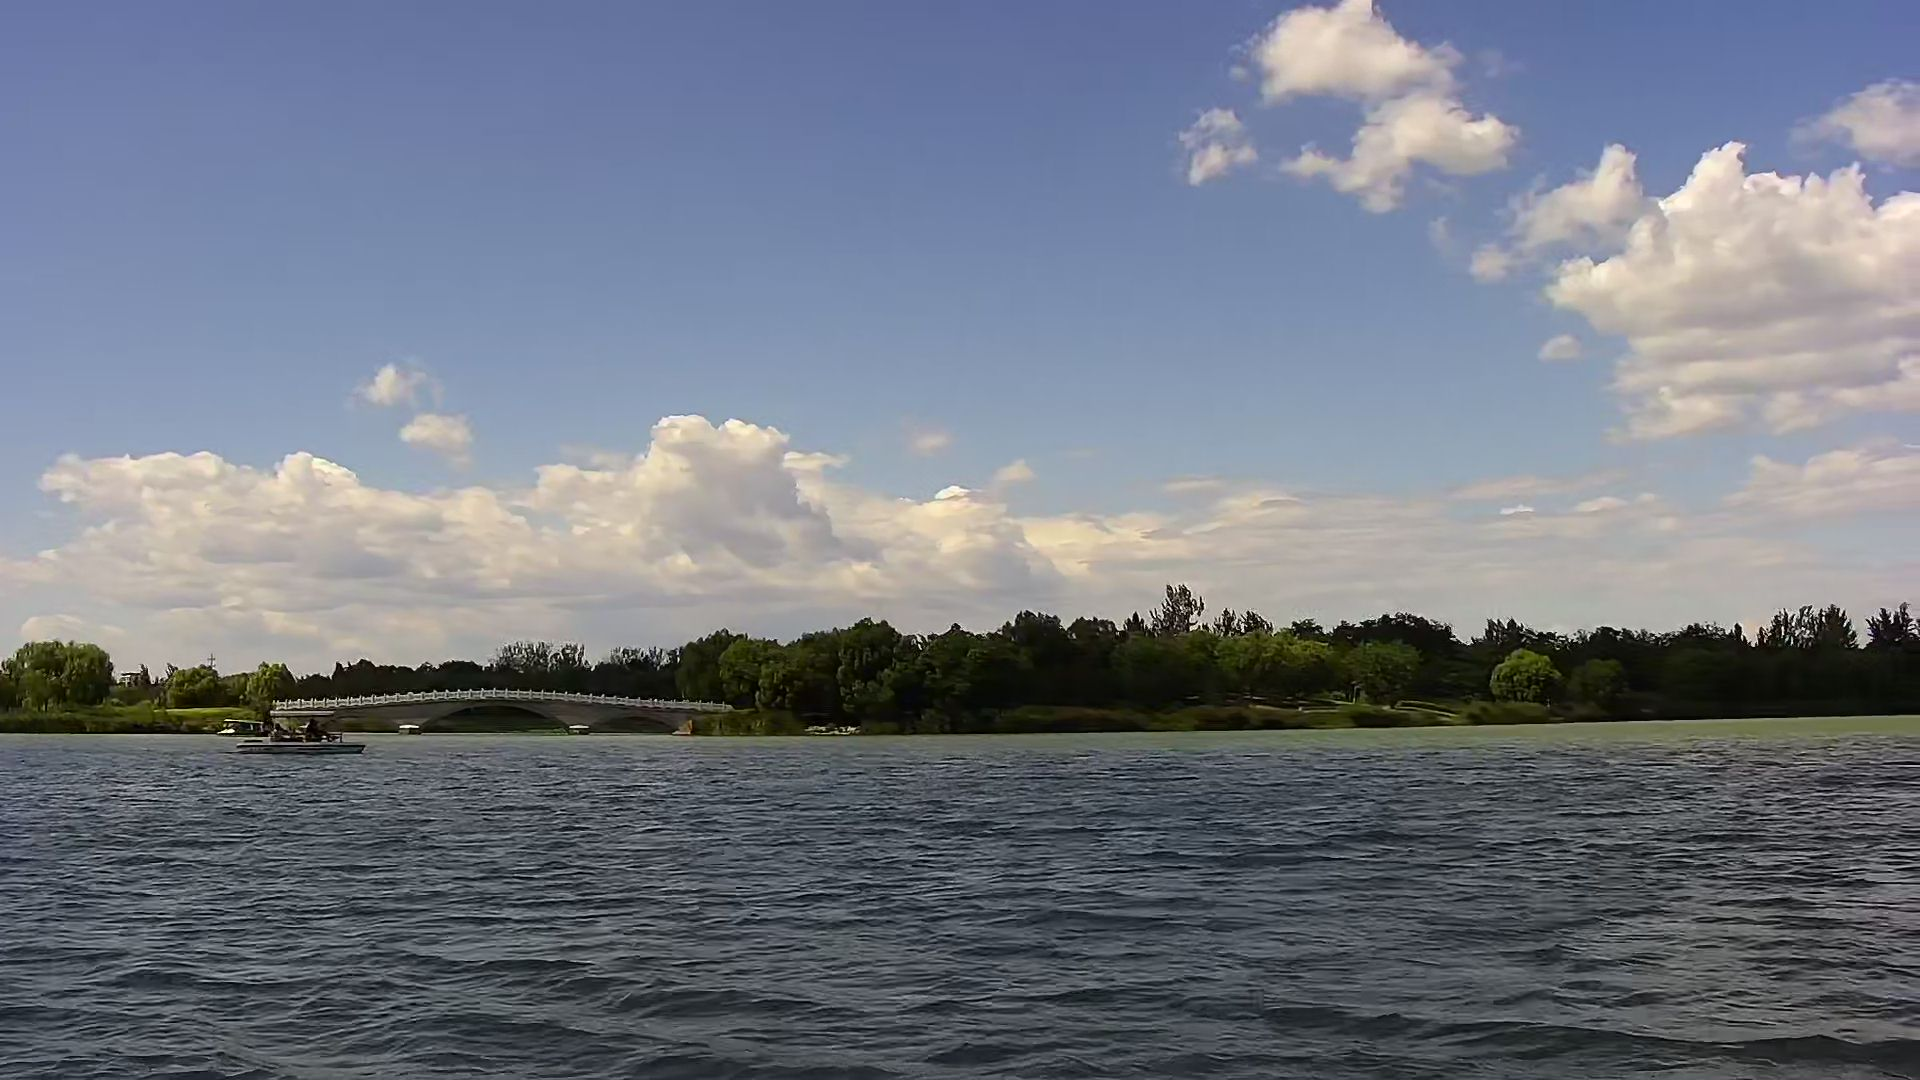boat: (235, 715, 376, 754)
bridge: (286, 691, 752, 742)
